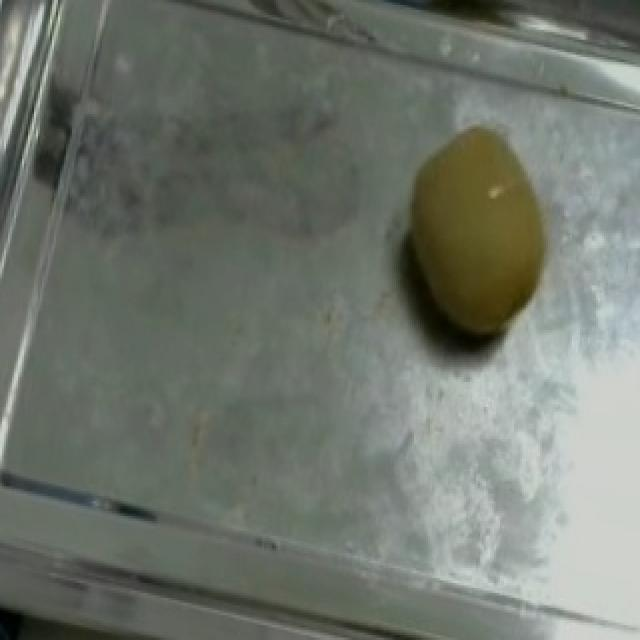Fruit: (374, 109, 582, 370)
